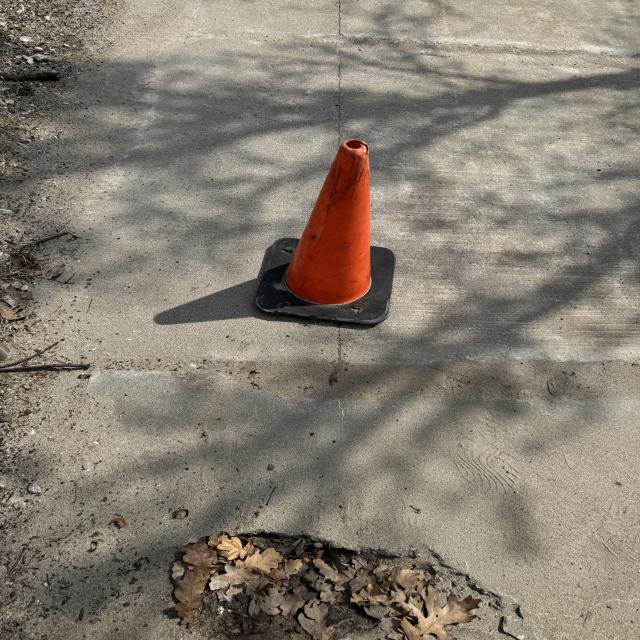Traffic Cone: (252, 136, 402, 330)
